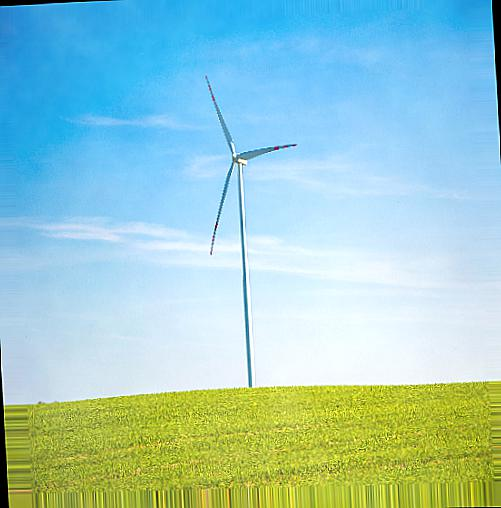wind turbine: (202, 76, 298, 389)
